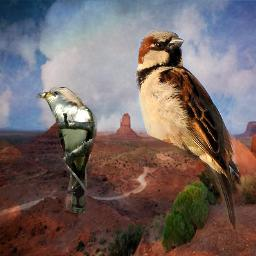Cuckoo: (36, 87, 97, 213)
Swallow: (134, 30, 239, 231)
